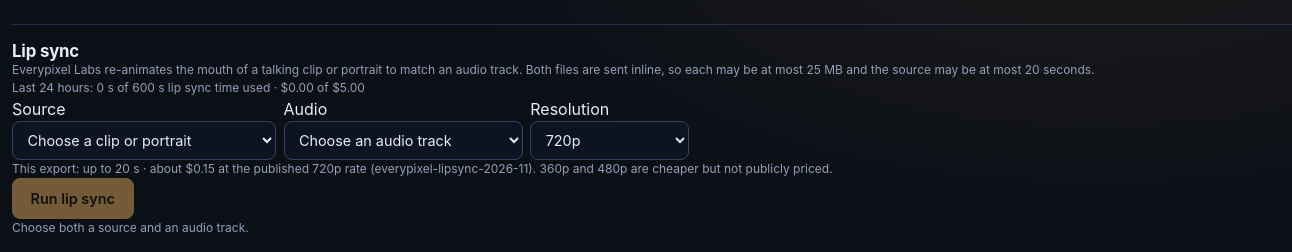
Test: lip sync panel › shows the seconds window and refuses to submit until both files are chosen
Expected: the text "Last 24 hours: 0 s of 600 s lip sync time used" is shown, [12,80,365,95]
Expected: the text "about $0.15 at the published 720p rate" is shown, [12,161,833,176]
Select "video · video/mp4 · 2 KB" in the dropdown named "Lip sync source": (144, 140) [12,121,276,160]
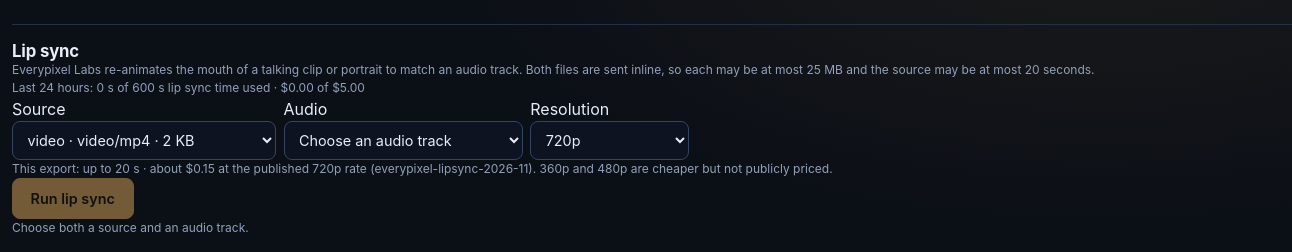
Expected: the button "Run lip sync" is disabled, [12,178,134,219]
Select "audio/mpeg · 1 KB" in the dropdown named "Lip sync audio": (403, 140) [284,121,523,160]
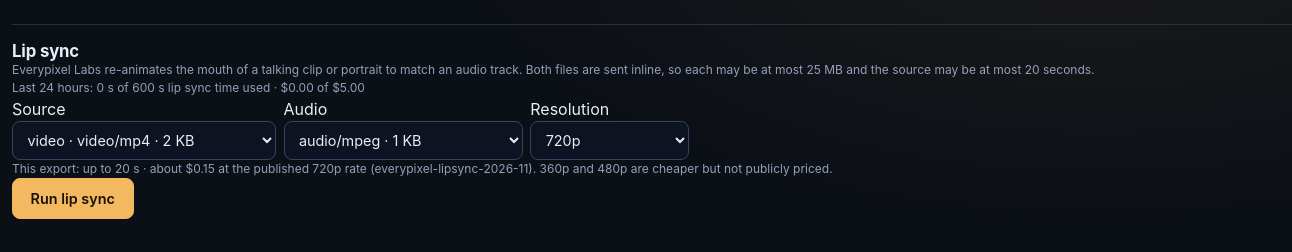
Expected: the button "Run lip sync" is enabled, [12,178,134,219]
